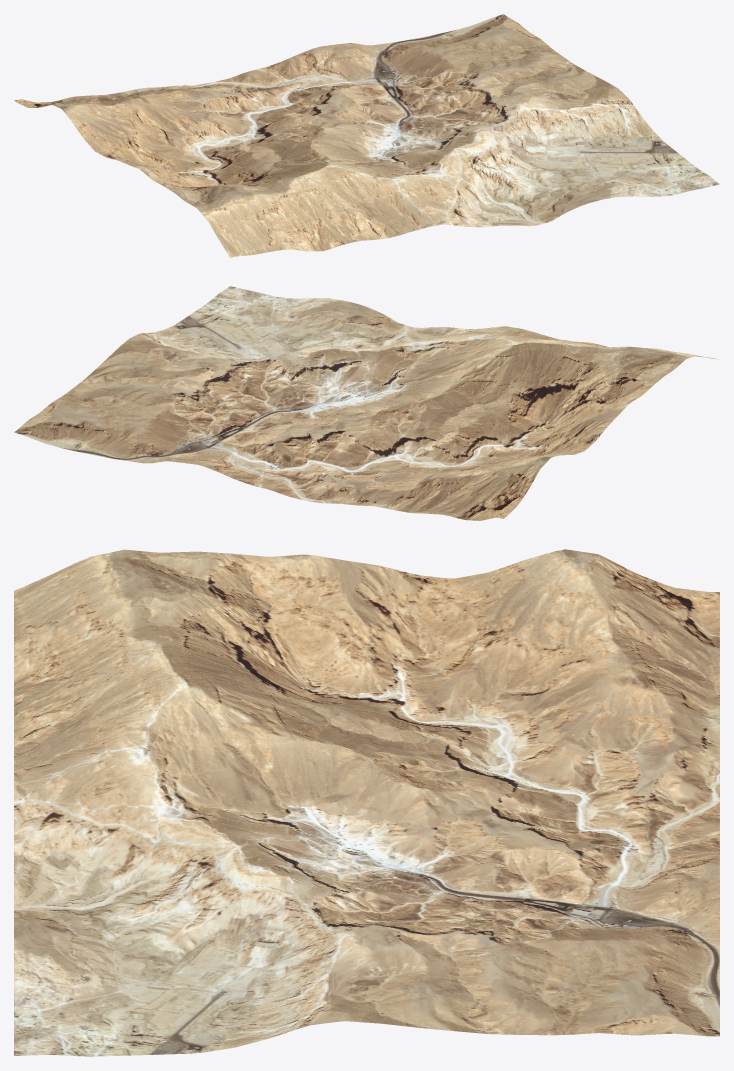
3 renders of one model, top to bottom at view 1: azimuth 30°, elevation 25°; view 2: azimuth 150°, elevation 25°; view 3: azimuth 270°, elevation 25°, orthographic. The views are drawn at different scales.
Visible parts, largest first — view 1: Object_2; view 2: Object_2; view 3: Object_2.
Part boxes in pixels (<box>): Object_2: <box>14,14,719,257</box>; Object_2: <box>14,286,717,520</box>; Object_2: <box>14,549,719,1056</box>.
Bounding box in the file's own units: 2599 × 370 × 1987.
1 material, 1 textured.
